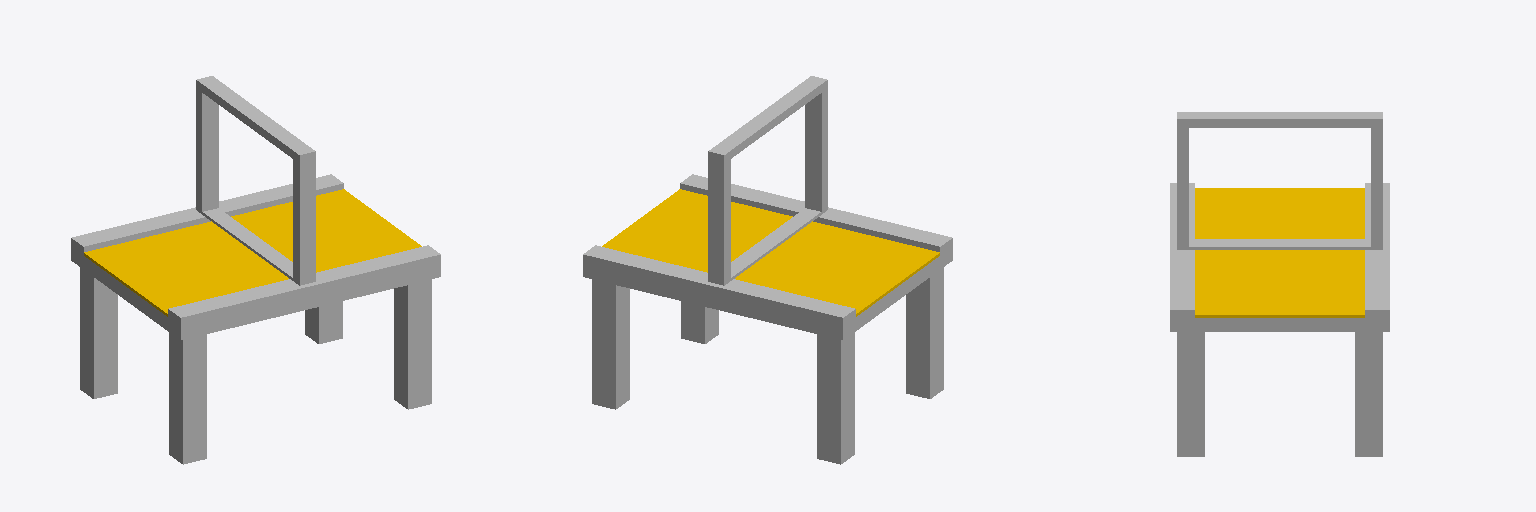
The picture shows the model from 3 angles: view 1: azimuth 30°, elevation 25°; view 2: azimuth 150°, elevation 25°; view 3: azimuth 270°, elevation 25°; orthographic projection.
Visible parts, largest first — view 1: plataformas-3; view 2: plataformas-3; view 3: plataformas-3.
Part boxes in pixels (left/top/right/bottom): plataformas-3: left=71, top=76, right=440, bottom=464; plataformas-3: left=583, top=76, right=952, bottom=464; plataformas-3: left=1170, top=112, right=1389, bottom=456.
Size of the model in its own units: 9.6 by 9.9 by 7.
Materials: 1 (1 with a texture image).